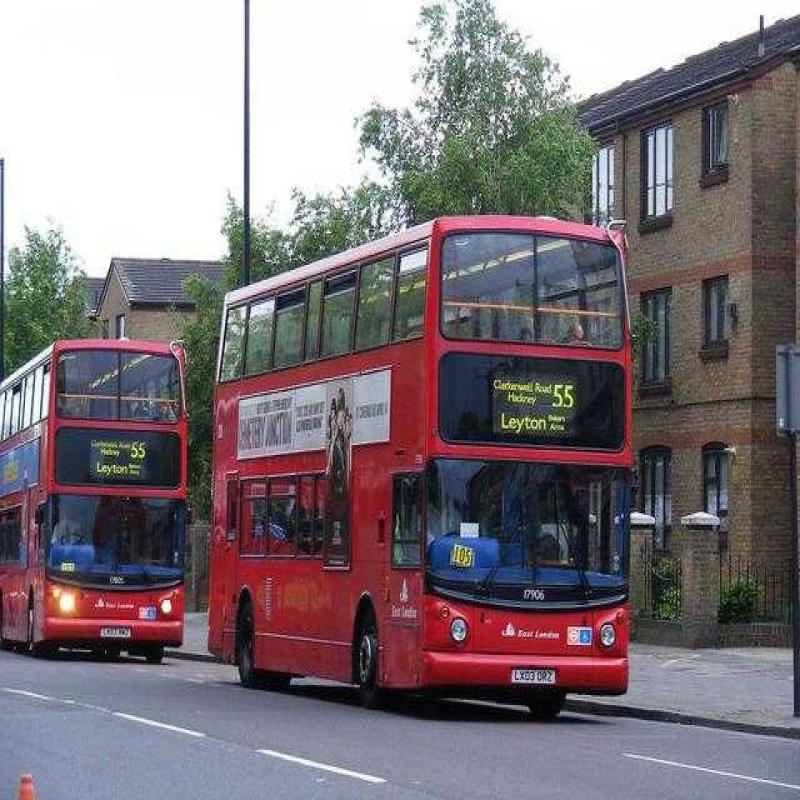bus: (193, 215, 638, 731), (0, 302, 198, 700)
